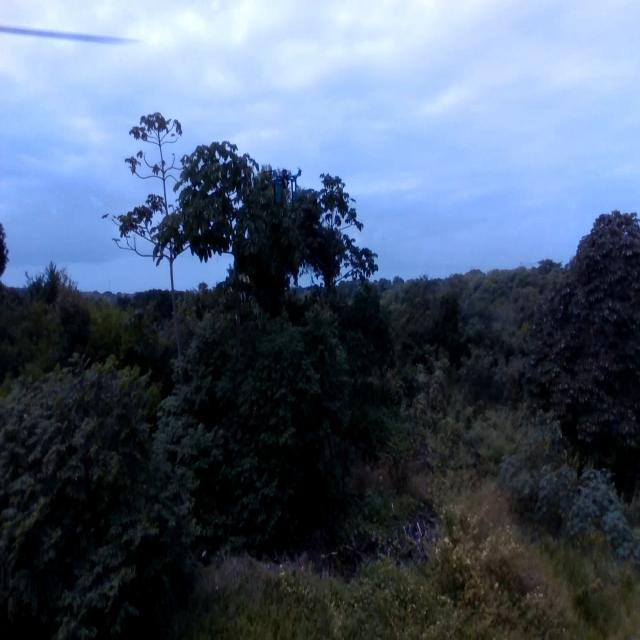-uav-: (264, 157, 304, 218)
